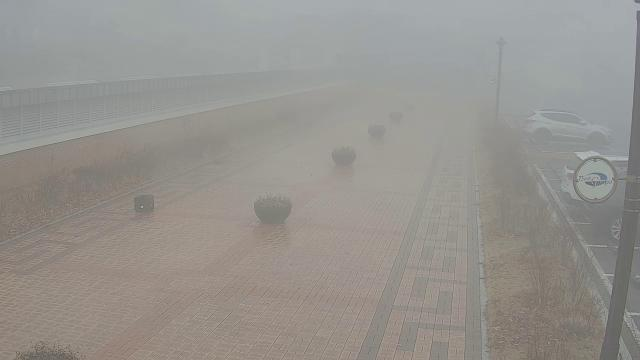bag: (134, 194, 156, 214)
